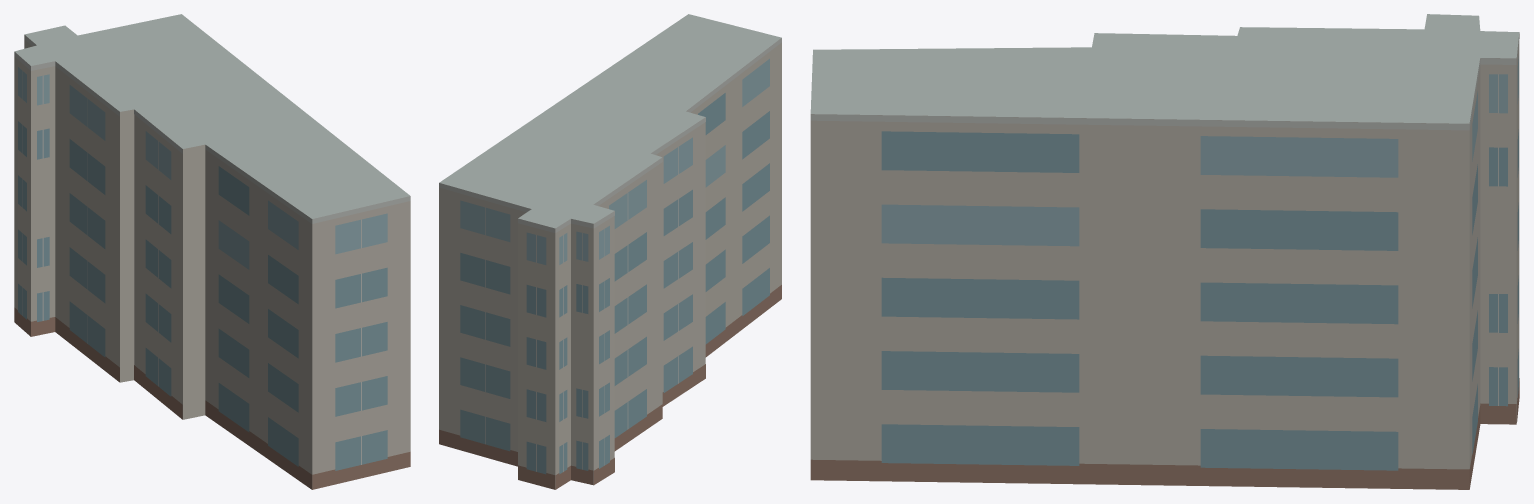
The model's file is survey-upis-33029785.glb.
3 views of the same model, side by side, from view 1: azimuth 30°, elevation 25°; view 2: azimuth 150°, elevation 25°; view 3: azimuth 270°, elevation 25° (orthographic). The views are drawn at different scales.
Parts seen in each view (by area): view 1: survey-upis-33029785.tmp; view 2: survey-upis-33029785.tmp; view 3: survey-upis-33029785.tmp.
Part boxes in pixels (left/top/right/bottom): survey-upis-33029785.tmp: left=14, top=14, right=410, bottom=489; survey-upis-33029785.tmp: left=439, top=14, right=781, bottom=489; survey-upis-33029785.tmp: left=810, top=14, right=1519, bottom=489.
Bounding box in the file's own units: 8.62 × 13.4 × 23.52.
